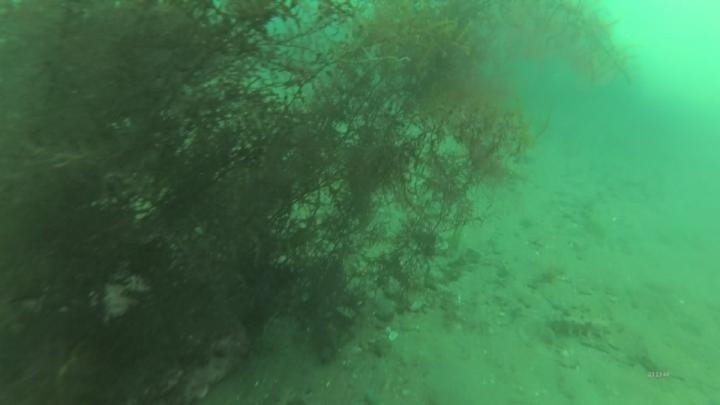holothurian: (544, 312, 617, 345)
